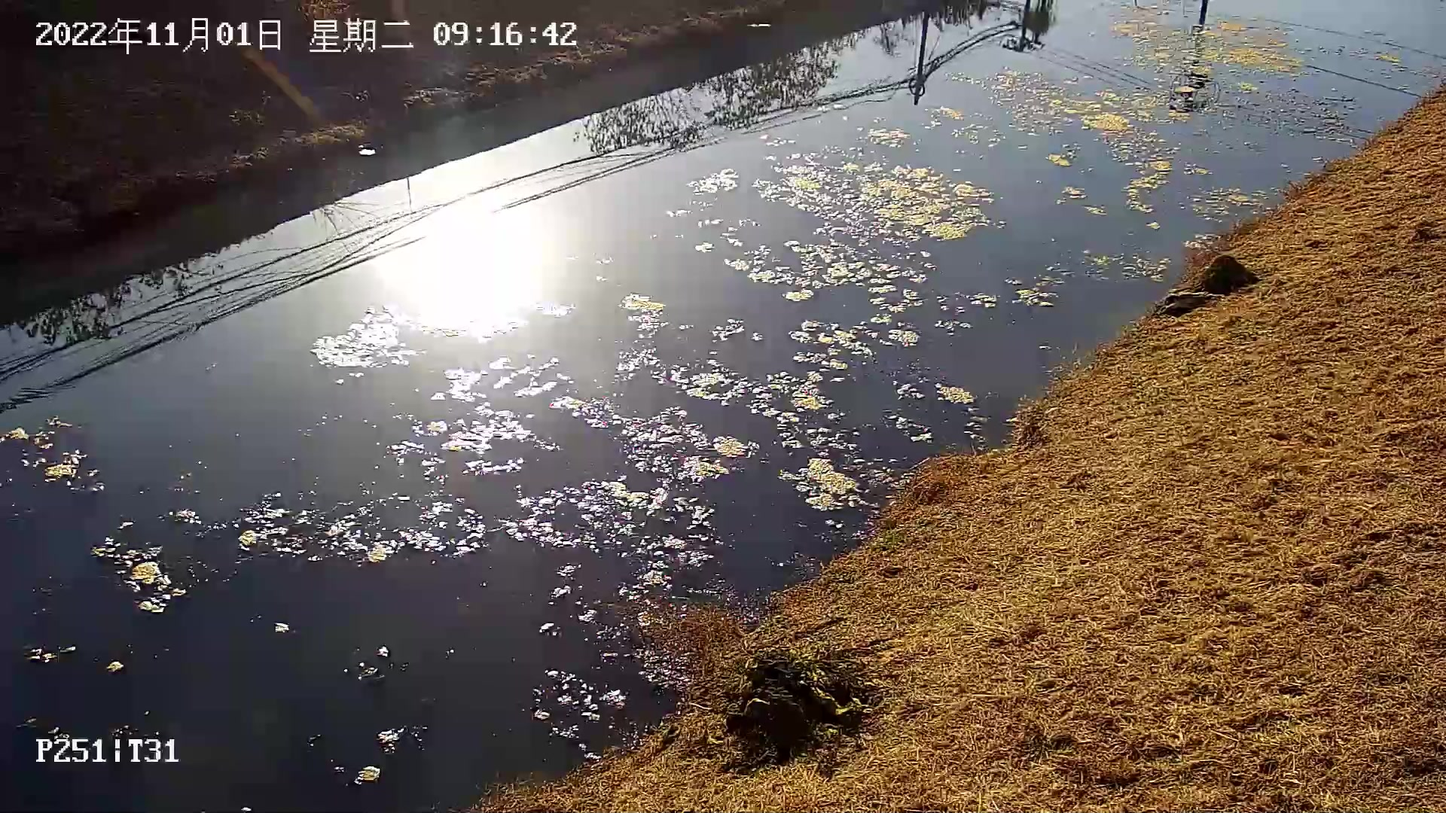floater: (755, 147, 990, 242), (232, 489, 487, 567), (754, 299, 882, 450), (558, 395, 752, 483), (1109, 1, 1301, 85), (950, 65, 1161, 138), (728, 238, 937, 300), (501, 478, 648, 559), (1007, 251, 1167, 310), (423, 407, 557, 476), (611, 346, 751, 409), (90, 534, 186, 619), (1, 417, 104, 495), (529, 666, 626, 746), (307, 302, 416, 372), (884, 375, 975, 446), (776, 454, 868, 516), (1106, 132, 1172, 215), (489, 352, 571, 400), (352, 724, 402, 786), (427, 365, 487, 407), (619, 290, 667, 339), (688, 166, 738, 199), (886, 325, 923, 352)
